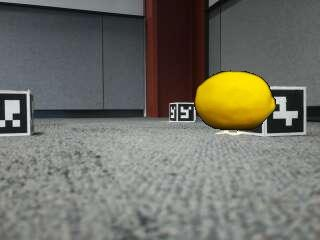lemon: (196, 72, 275, 131)
